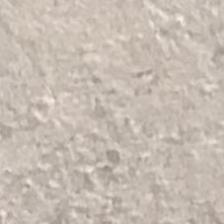Non_Crack: (28, 17, 221, 220)
